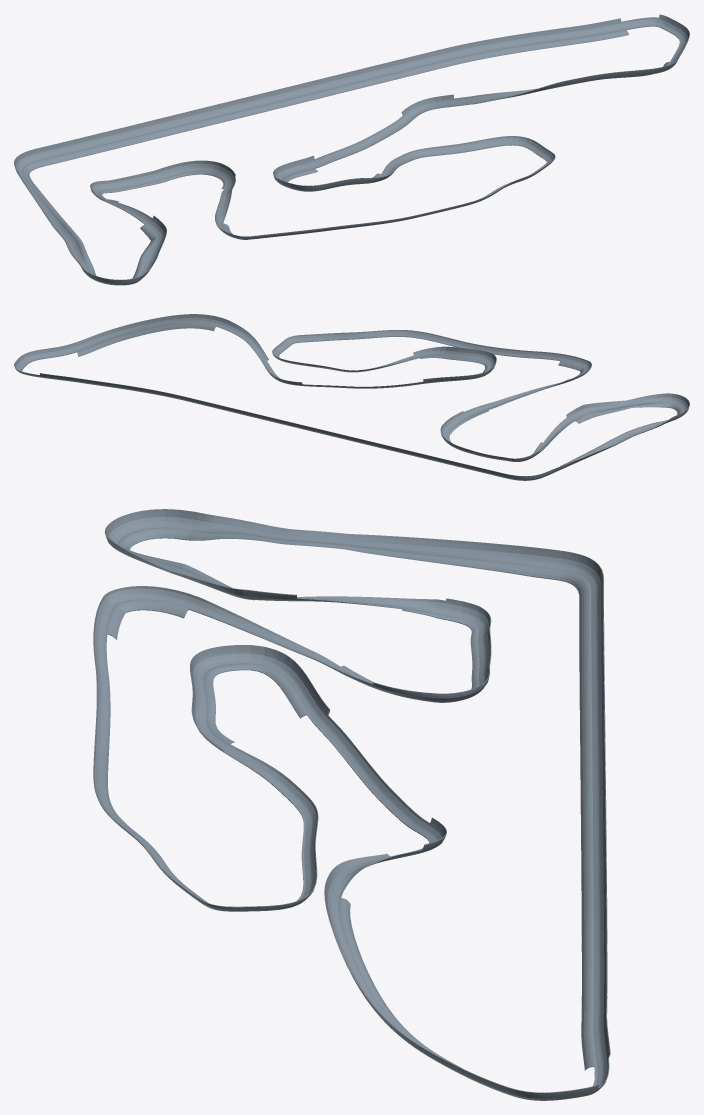
File: gyrace-build-ricardo.glb
3 renders of one model, top to bottom at view 1: azimuth 30°, elevation 25°; view 2: azimuth 150°, elevation 25°; view 3: azimuth 270°, elevation 25°, orthographic. The views are drawn at different scales.
Visible parts, largest first — view 1: ricardo; view 2: ricardo; view 3: ricardo.
Part boxes in pixels (x1=…): ricardo: x1=14, y1=14, x2=689, y2=285; ricardo: x1=14, y1=314, x2=689, y2=480; ricardo: x1=93, y1=509, x2=610, y2=1100.
Size of the model in its own units: 4 by 0.2716 by 1.57.
